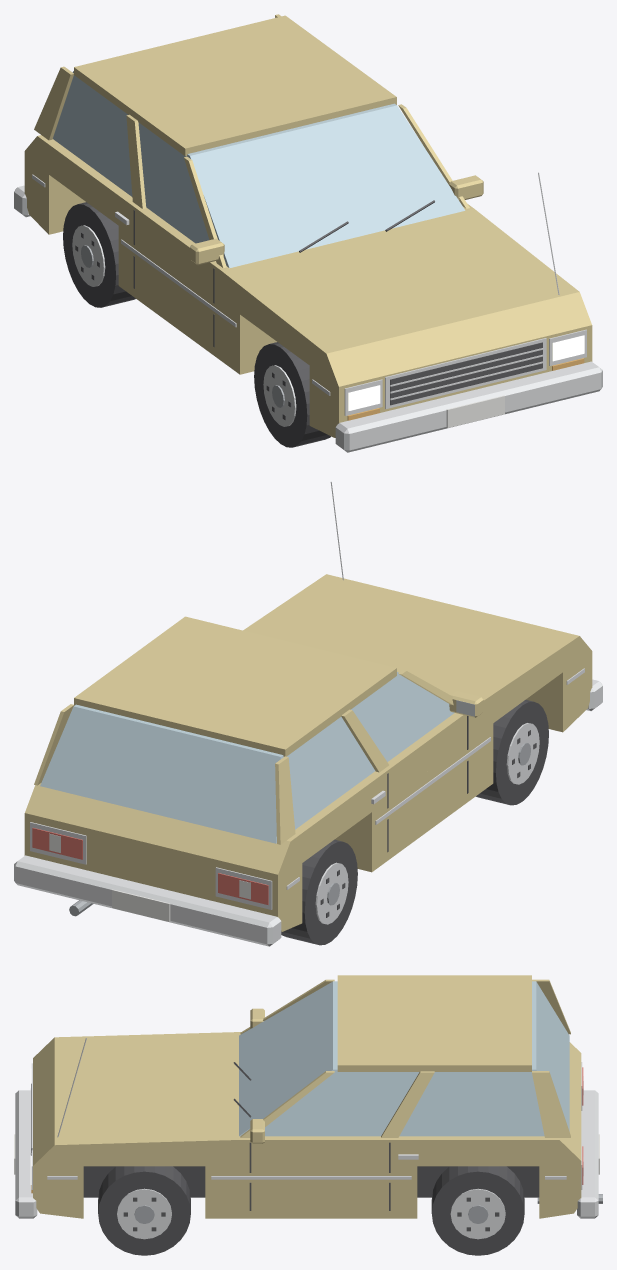
The model's file is car_hatch_y.glb.
3 renders of one model, top to bottom at view 1: azimuth 30°, elevation 25°; view 2: azimuth 150°, elevation 25°; view 3: azimuth 270°, elevation 25°, orthographic. The views are drawn at different scales.
Visible parts, largest first — view 1: car_hatch_y_car_y, car_hatch_y_glass, car_hatch_y_chrome, car_hatch_y_rubber, car_hatch_y_dark, car_hatch_y_lamp_glass, car_hatch_y_paint_w; view 2: car_hatch_y_car_y, car_hatch_y_glass, car_hatch_y_chrome, car_hatch_y_rubber, car_hatch_y_neon_r, car_hatch_y_paint_w, car_hatch_y_steel; view 3: car_hatch_y_car_y, car_hatch_y_glass, car_hatch_y_rubber, car_hatch_y_chrome, car_hatch_y_dark, car_hatch_y_steel.
Part boxes in pixels (x1,y1,x2,y2): car_hatch_y_car_y: [24, 14, 592, 437]; car_hatch_y_glass: [53, 71, 465, 268]; car_hatch_y_chrome: [14, 172, 602, 452]; car_hatch_y_rubber: [63, 202, 330, 447]; car_hatch_y_dark: [75, 200, 542, 420]; car_hatch_y_lamp_glass: [348, 335, 584, 410]; car_hatch_y_paint_w: [446, 395, 504, 427]; car_hatch_y_car_y: [24, 574, 592, 931]; car_hatch_y_glass: [40, 672, 454, 843]; car_hatch_y_chrome: [14, 481, 602, 946]; car_hatch_y_rubber: [281, 699, 548, 945]; car_hatch_y_neon_r: [32, 828, 268, 904]; car_hatch_y_paint_w: [49, 833, 250, 921]; car_hatch_y_steel: [69, 742, 530, 916]; car_hatch_y_car_y: [33, 975, 581, 1218]; car_hatch_y_glass: [239, 981, 569, 1136]; car_hatch_y_rubber: [83, 1166, 539, 1255]; car_hatch_y_chrome: [15, 1038, 598, 1239]; car_hatch_y_dark: [31, 1062, 499, 1231]; car_hatch_y_steel: [134, 1194, 602, 1223].
Size of the model in its own units: 2 by 1.6 by 4.06.
